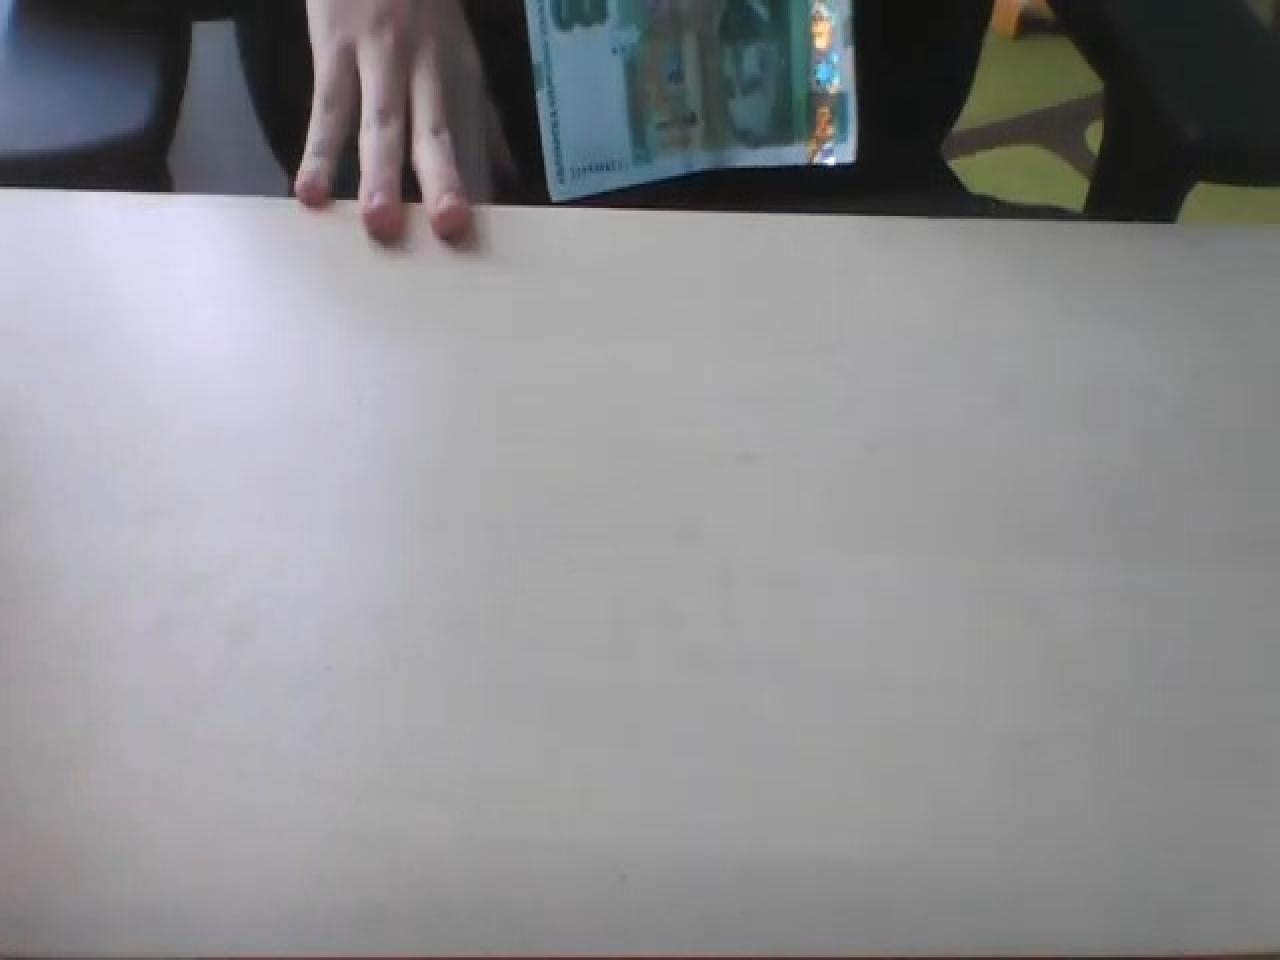100leva: (522, 0, 862, 200)
